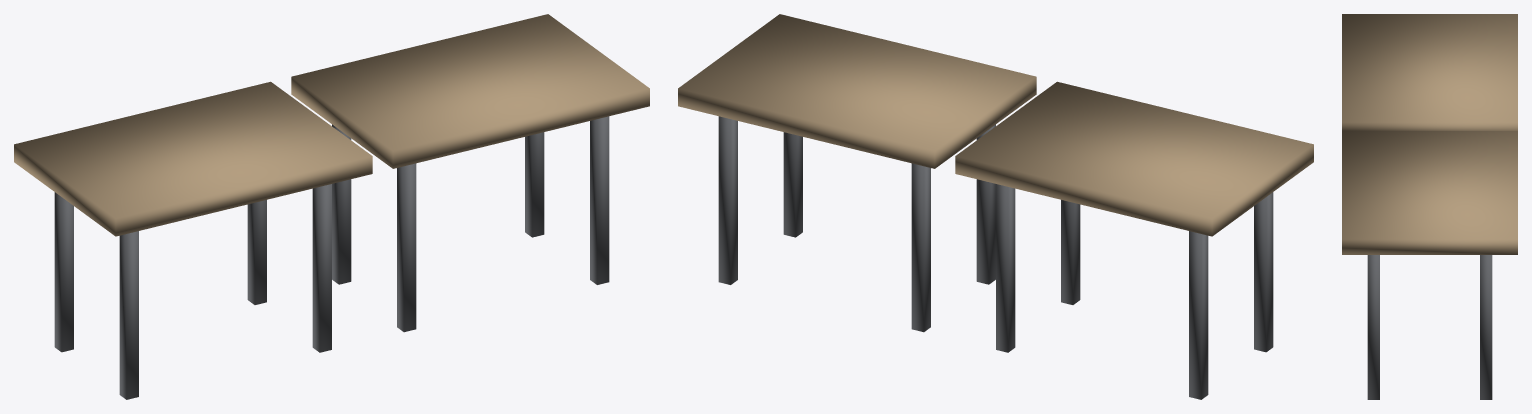
Rendered from diner_four_top__cluster.glb.
3 views of the same model, side by side, from view 1: azimuth 30°, elevation 25°; view 2: azimuth 150°, elevation 25°; view 3: azimuth 270°, elevation 25° (orthographic). The views are drawn at different scales.
Parts seen in each view (by area): view 1: world; view 2: world; view 3: world.
Part boxes in pixels (x1,y1,x2,y2): world: (14, 14, 649, 399); world: (678, 14, 1313, 399); world: (1342, 14, 1517, 399).
Size of the model in its own units: 2.18 by 0.775 by 0.72.
